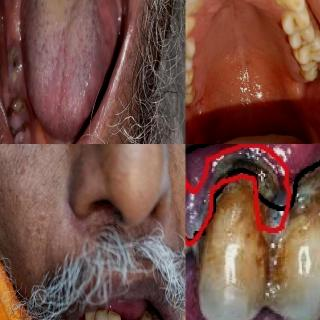Gum Swelling: (186, 144, 320, 240)
calculus: (208, 149, 276, 295), (278, 160, 320, 252)
cavities: (291, 14, 301, 30), (185, 86, 189, 109), (185, 32, 189, 52)
plaque: (91, 308, 123, 320)
stains: (208, 182, 272, 318), (285, 178, 320, 284)
